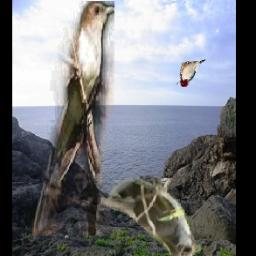Cuckoo: (32, 2, 114, 237), (100, 179, 202, 256)
Woodpecker: (176, 59, 205, 87)
